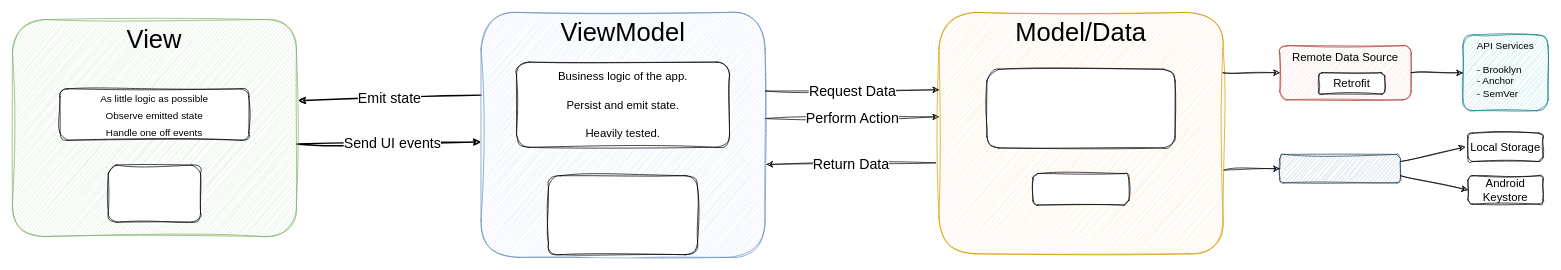
This 1561x270 diagram has some shape labels left out. The shapes that lost their labels are listed below. From the top down, each one's box as (x1, y1, x2, y2) in pixels, then its label:
(986, 69, 1175, 148): Interacts with all data sources. Majority of Async work.
(1279, 154, 1400, 183): Local Data Source
(108, 164, 201, 222): Views do not survive configuration changes. Recreated constantly.
(1032, 173, 1129, 205): Interfaces with defined contracts
(548, 175, 698, 255): State Immutable Initial state must be defined. Can only be re-assigned in the VM
